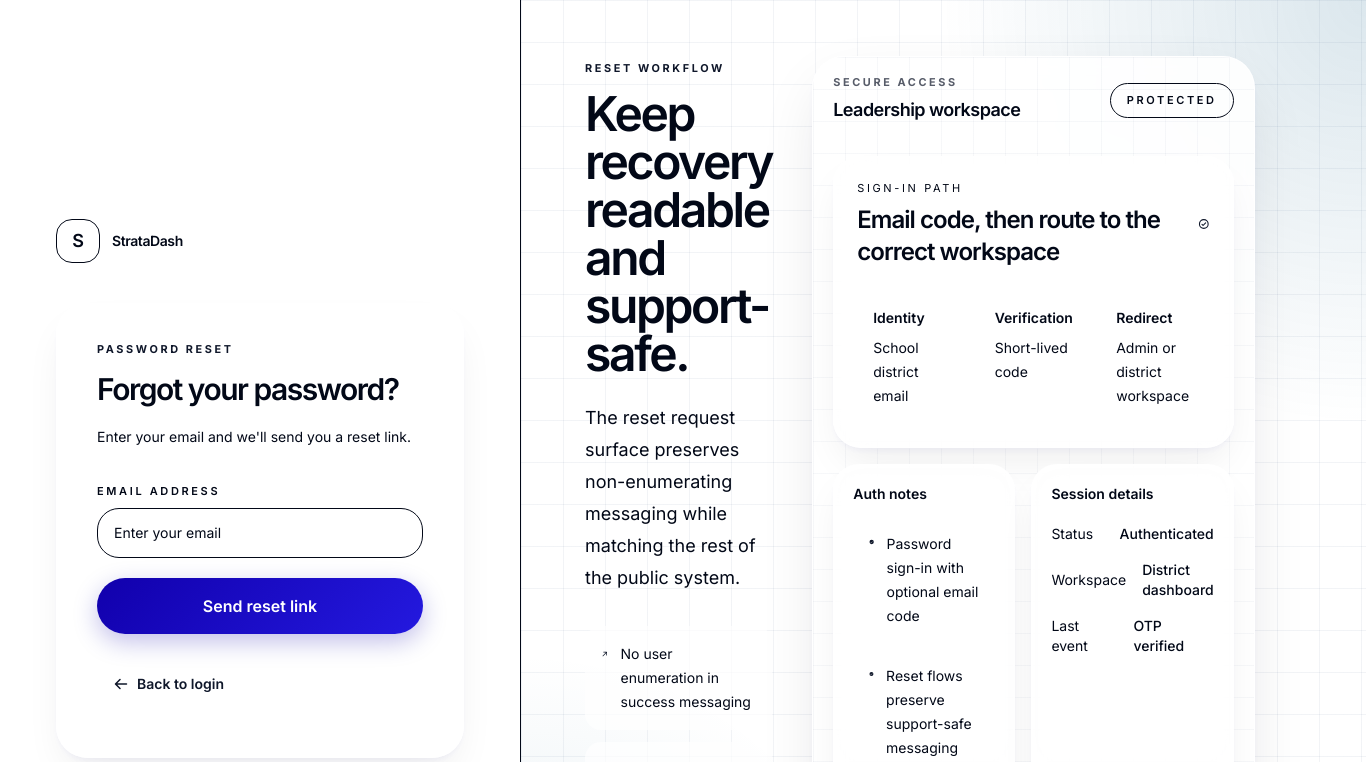
it: ForgotPassword › shows connection error when fetch fails
In the field labelled "Email address": {"x": 260, "y": 533} x1=97 y1=508 x2=423 y2=558, type "test@example.com"
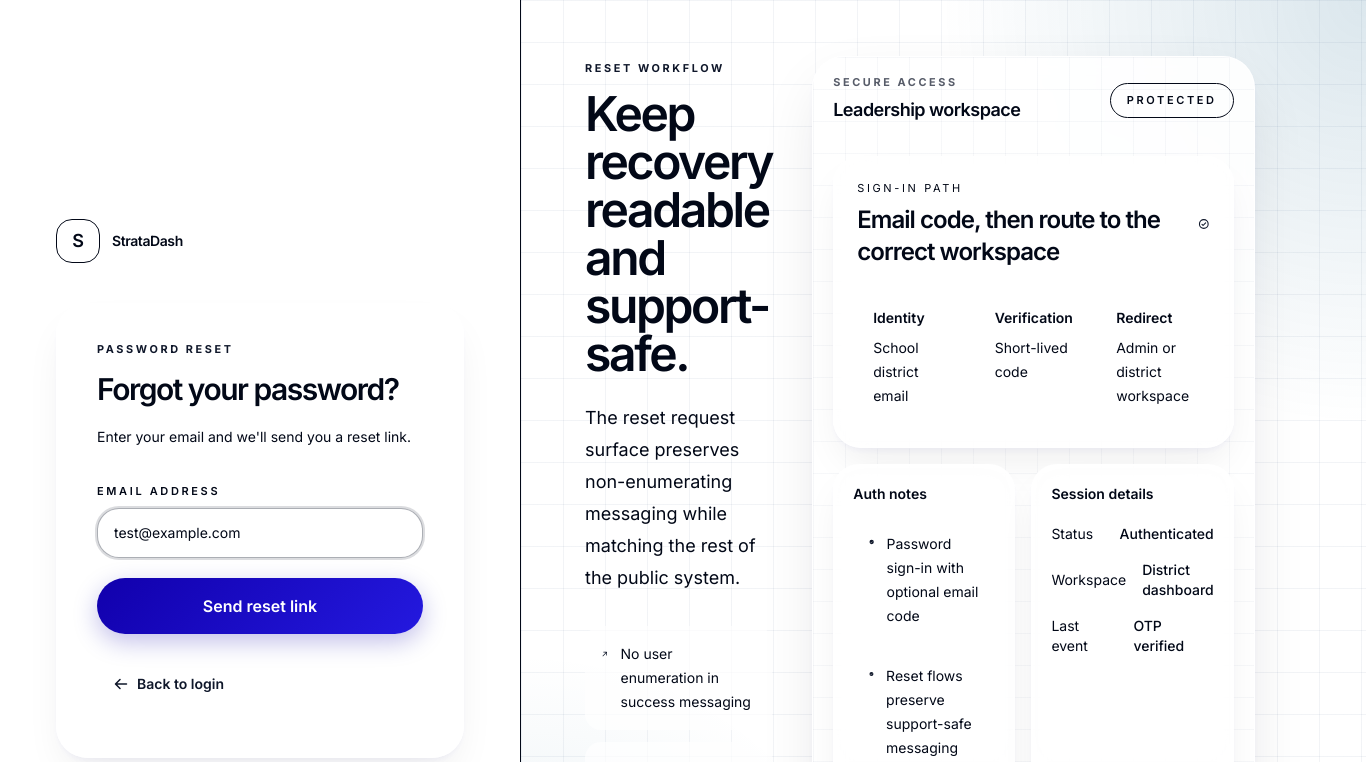
Click the button "Send reset link": {"x": 260, "y": 606} x1=97 y1=578 x2=423 y2=634
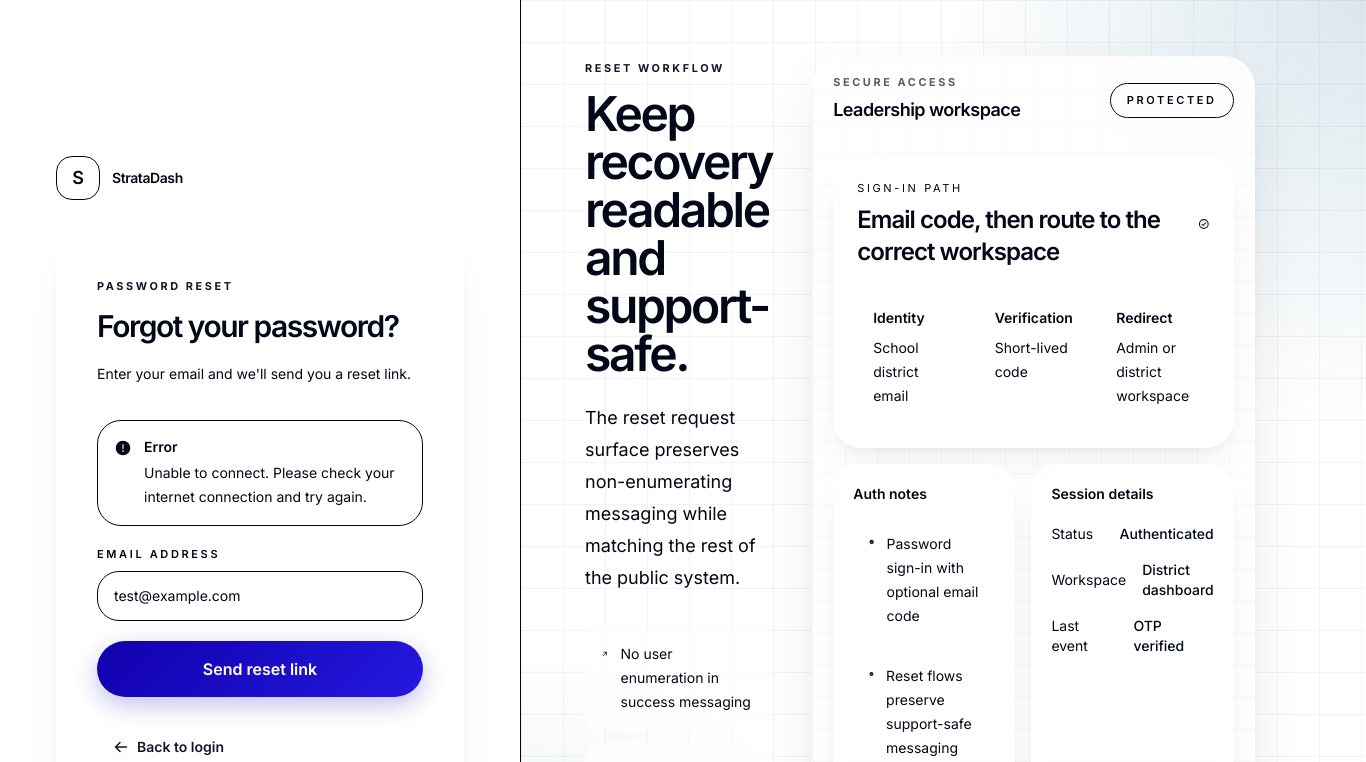
Expected: the text "Unable to connect" is shown, x1=144 y1=464 x2=395 y2=505
